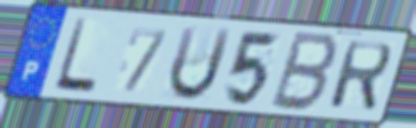5: (219, 29, 284, 108)
7: (119, 25, 169, 94)
B: (266, 28, 343, 115)
L: (51, 16, 99, 96)
R: (326, 39, 395, 115)
U: (166, 24, 236, 104)
